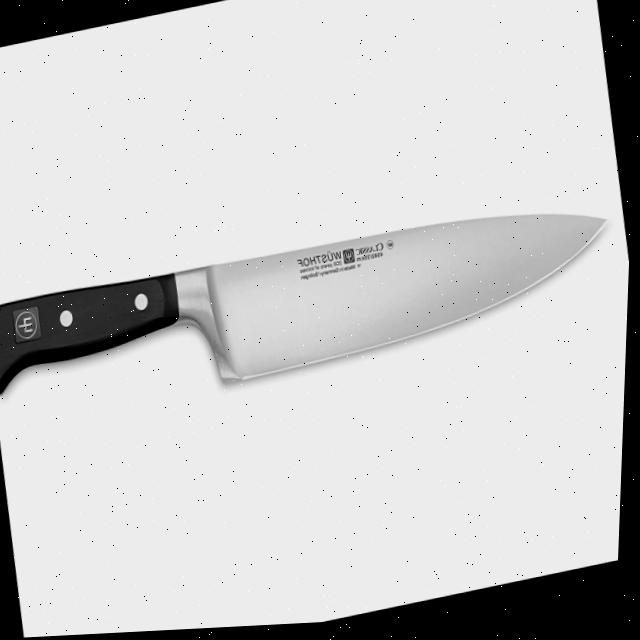knife: (0, 175, 628, 437)
